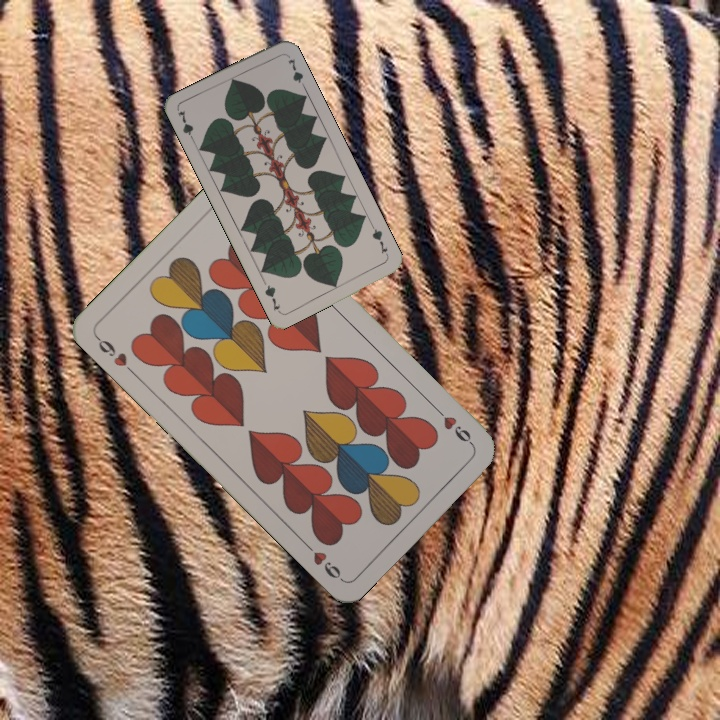G7: (173, 106, 198, 145), (368, 221, 391, 259)
H9: (92, 332, 138, 378), (430, 402, 476, 448)
